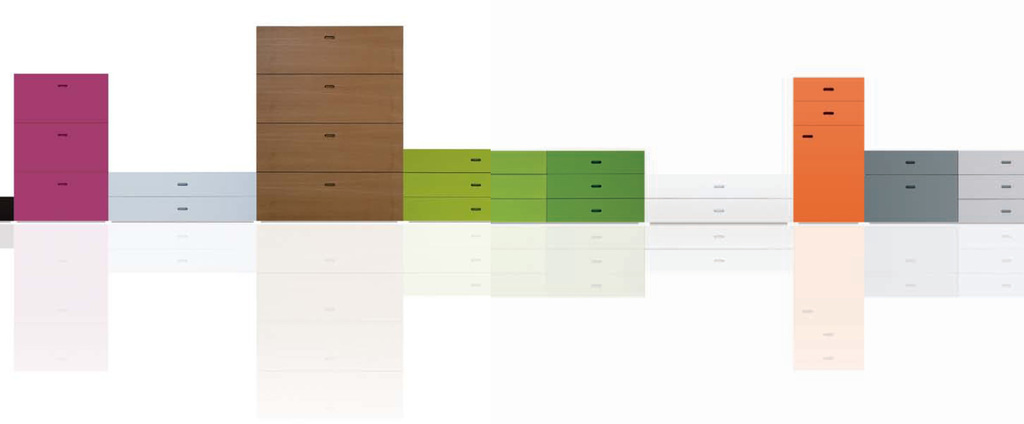cabinet door: (262, 168, 402, 218), (798, 122, 866, 220), (259, 122, 399, 169), (262, 74, 402, 121), (259, 28, 401, 73), (18, 73, 110, 122), (20, 174, 102, 219), (29, 122, 102, 172), (654, 197, 788, 224), (491, 172, 634, 197), (114, 174, 251, 199), (651, 175, 786, 200), (492, 150, 643, 172), (886, 176, 958, 222), (115, 201, 250, 223), (495, 200, 636, 220), (871, 148, 950, 175), (401, 148, 487, 171), (402, 198, 489, 218), (403, 174, 486, 194), (962, 148, 1024, 174), (963, 175, 1024, 199), (968, 201, 1024, 226), (797, 100, 860, 122), (799, 79, 858, 100)
handle: (583, 204, 610, 217), (995, 181, 1014, 196), (54, 178, 75, 191), (318, 128, 339, 140), (702, 182, 730, 191), (903, 154, 922, 167), (466, 177, 486, 189), (46, 80, 75, 88), (171, 181, 194, 191), (322, 79, 339, 91), (54, 129, 68, 143), (710, 208, 731, 217), (468, 155, 487, 164), (822, 85, 839, 95), (466, 205, 484, 214), (798, 132, 818, 140), (998, 157, 1012, 168), (586, 182, 603, 191), (900, 183, 918, 191), (999, 207, 1015, 216), (820, 109, 836, 117), (318, 34, 338, 40), (319, 181, 338, 187), (590, 158, 605, 165), (177, 206, 190, 213)
